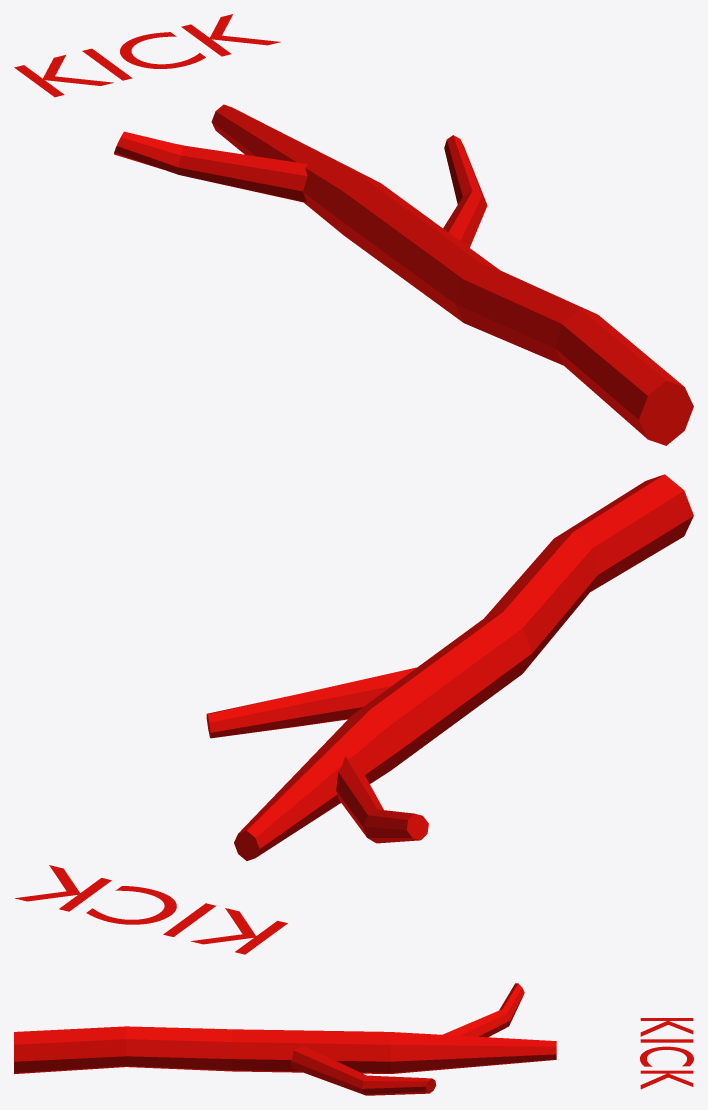
File: KickStick (1).fbx
3 renders of one model, top to bottom at view 1: azimuth 30°, elevation 25°; view 2: azimuth 150°, elevation 25°; view 3: azimuth 270°, elevation 25°, orthographic. The views are drawn at different scales.
Parts seen in each view (by area): view 1: KICK STICK, Text; view 2: KICK STICK, Text; view 3: KICK STICK, Text.
Part boxes in pixels (bbox=[...]): KICK STICK: bbox=[114, 104, 693, 445]; Text: bbox=[14, 14, 280, 97]; KICK STICK: bbox=[206, 474, 693, 860]; Text: bbox=[15, 865, 287, 954]; KICK STICK: bbox=[14, 983, 556, 1095]; Text: bbox=[640, 1018, 693, 1089].
Size of the model in its own units: 16.11 by 4.41 by 52.42.
